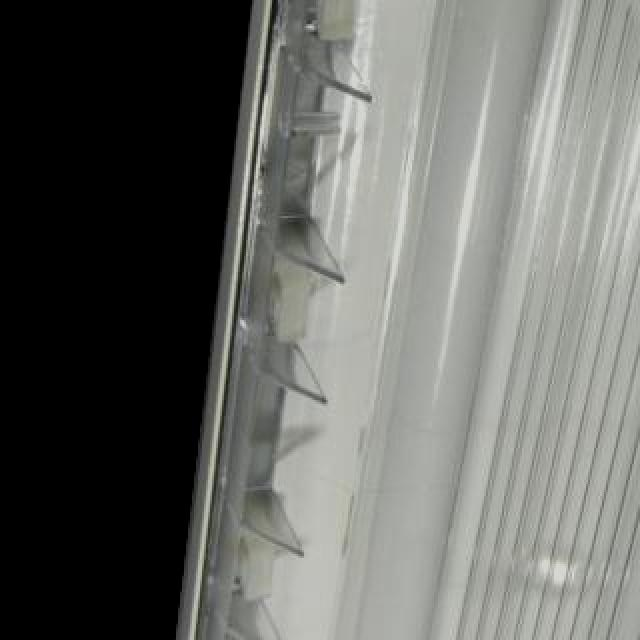fluorescent tube: (194, 0, 628, 640), (556, 0, 640, 640)
